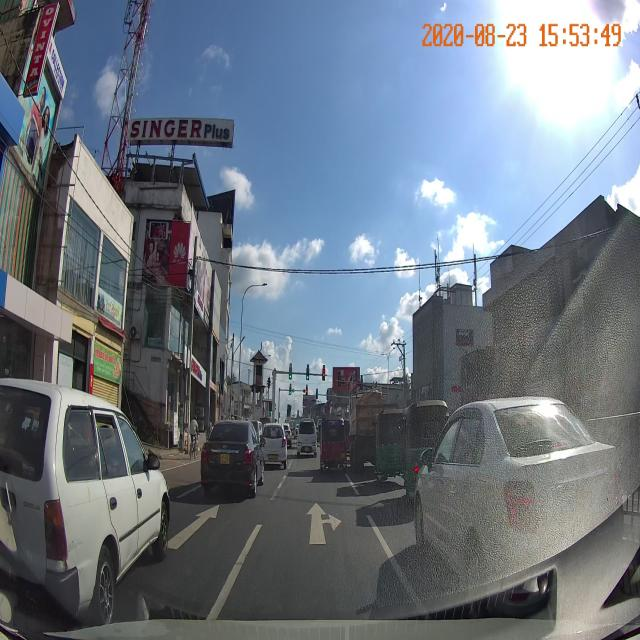forward_right: (237, 492, 398, 558), (235, 504, 397, 560), (234, 510, 398, 560), (234, 508, 397, 556)
